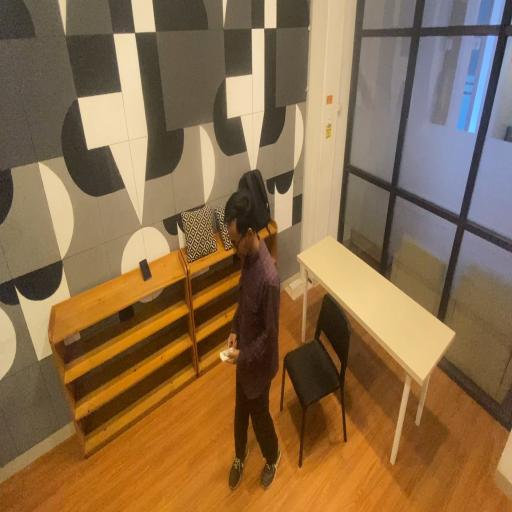bantal: (180, 200, 218, 268)
hp: (137, 254, 154, 286)
kursi: (279, 283, 355, 473)
lemari: (42, 243, 202, 470)
meja: (294, 226, 459, 486)
tas ransel: (236, 166, 279, 232)
